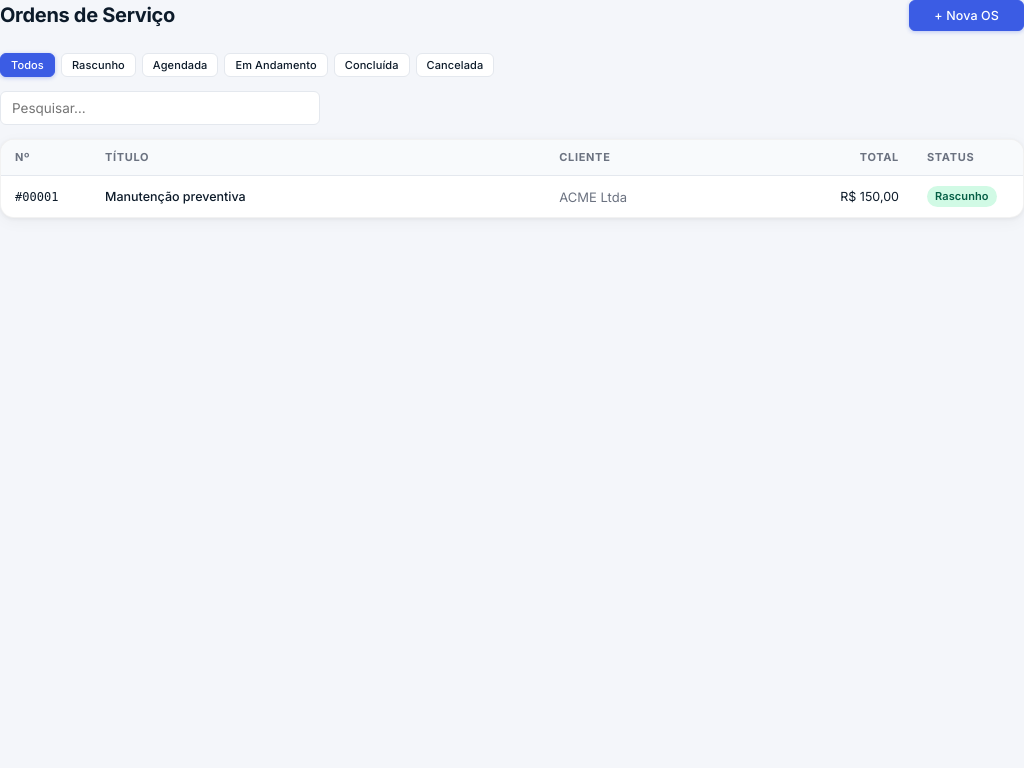
Scenario: ServiceOrdersPage — visualização de fotos da visita › visita sem check-in não mostra o botão Ver Fotos
Click the text "#00001". click: click(19, 197)
box: [15, 190, 58, 204]
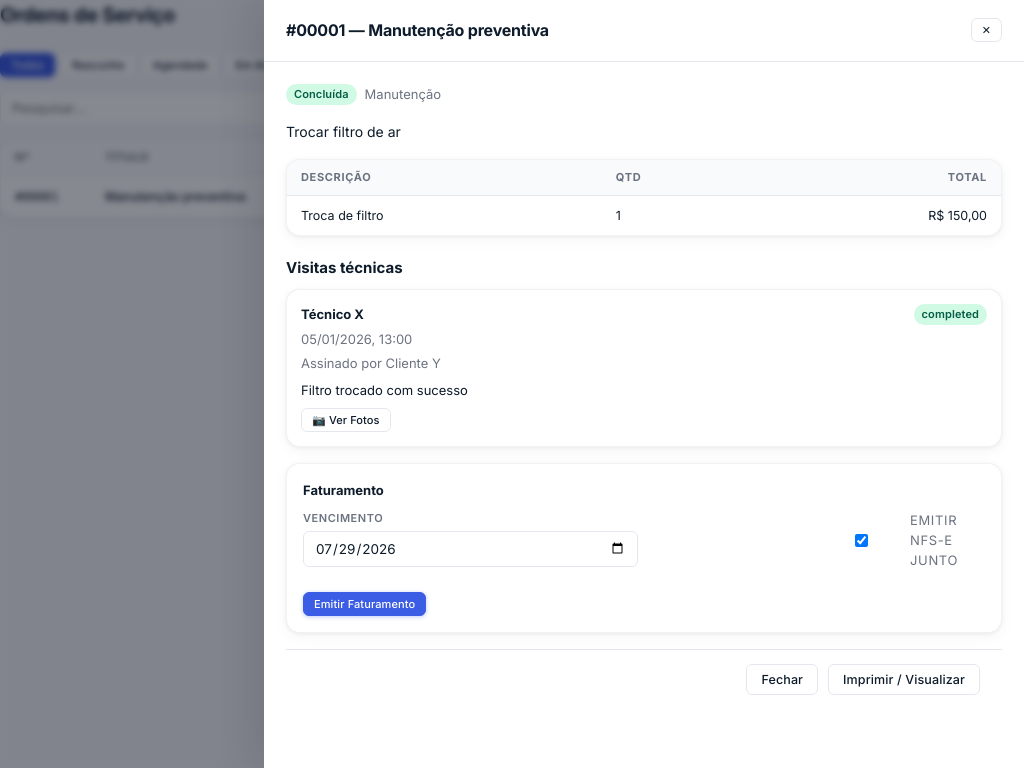
Expected: the text "Técnico X" is shown, [301, 304, 364, 325]
Expected: the button "📷 Ver Fotos" is shown, [301, 408, 391, 432]
